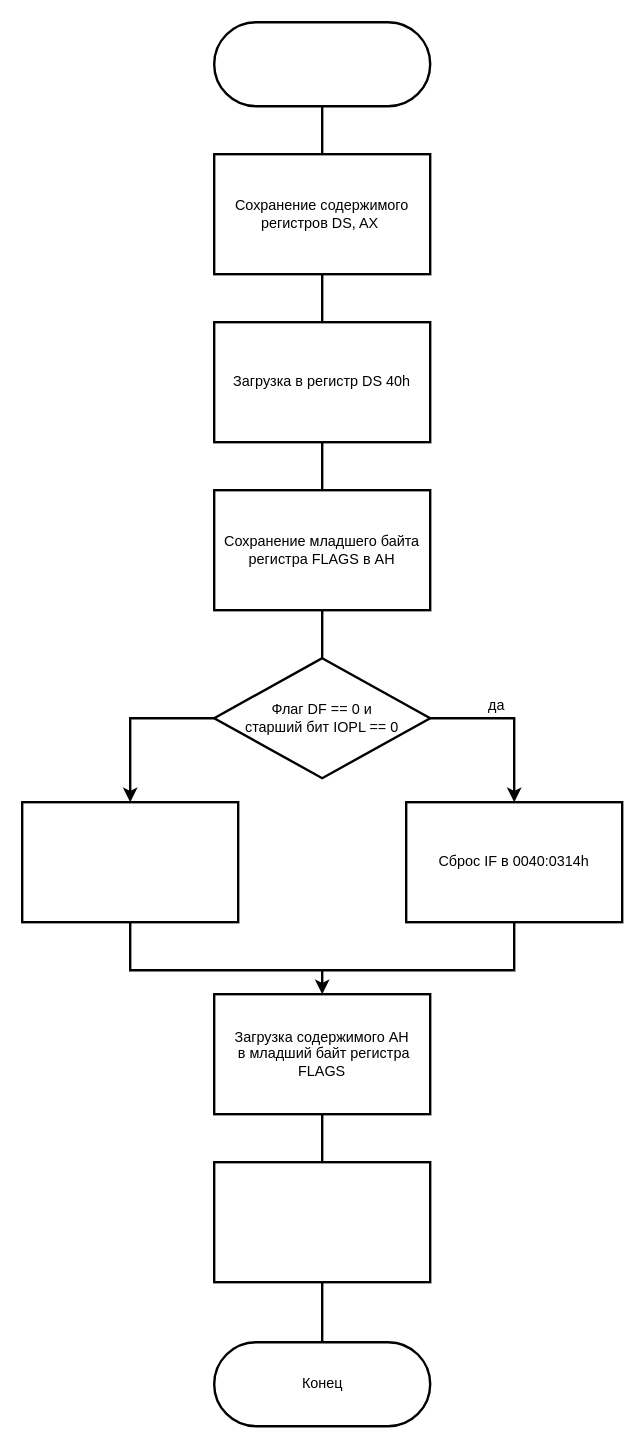
Some shapes in this 643 by 1447 pixel diagram are drawn without their labels. The shapes that lost their labels are listed below. From the top down, each one's box as (x1, y1, x2, y2) in pixels, then its label:
(212, 20, 431, 107): Начало
(20, 800, 239, 923): Запрет прерываний от внешних устройств инструкцией cli
(212, 1160, 431, 1283): Восстановление регистров AX, DS
